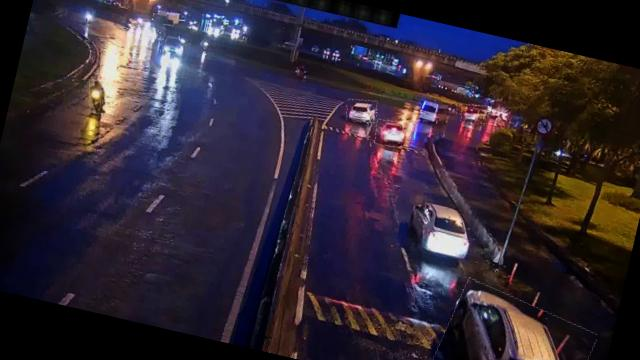Bike: (85, 78, 112, 116)
Car: (428, 280, 599, 360), (405, 200, 478, 264), (374, 116, 414, 150), (344, 96, 379, 125), (459, 102, 491, 126)
